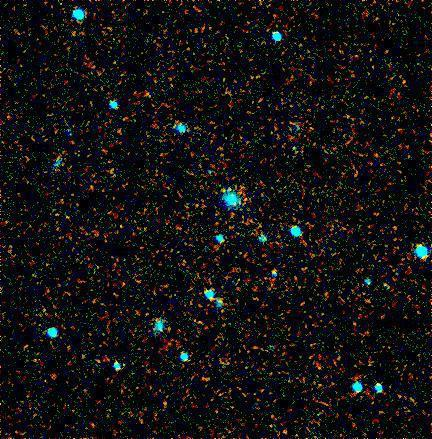star: (212, 175, 242, 205)
